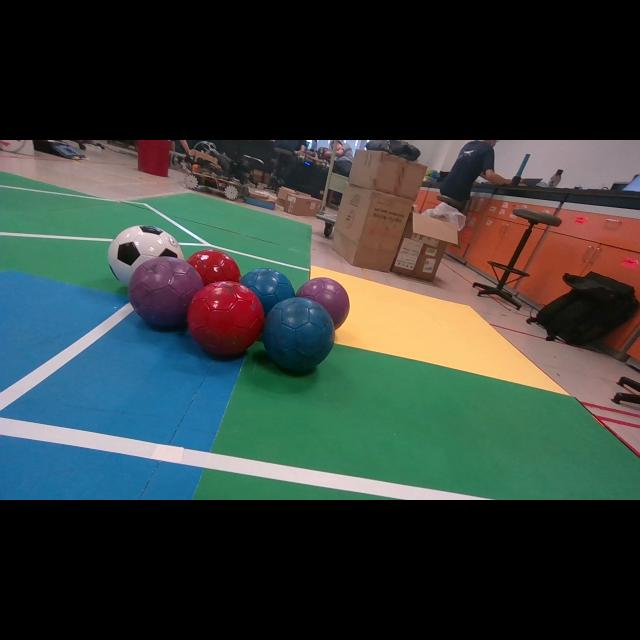B: (262, 298, 335, 371), (240, 268, 295, 314)
P: (128, 256, 204, 326), (296, 278, 350, 328)
R: (188, 282, 265, 355), (186, 249, 241, 284)
